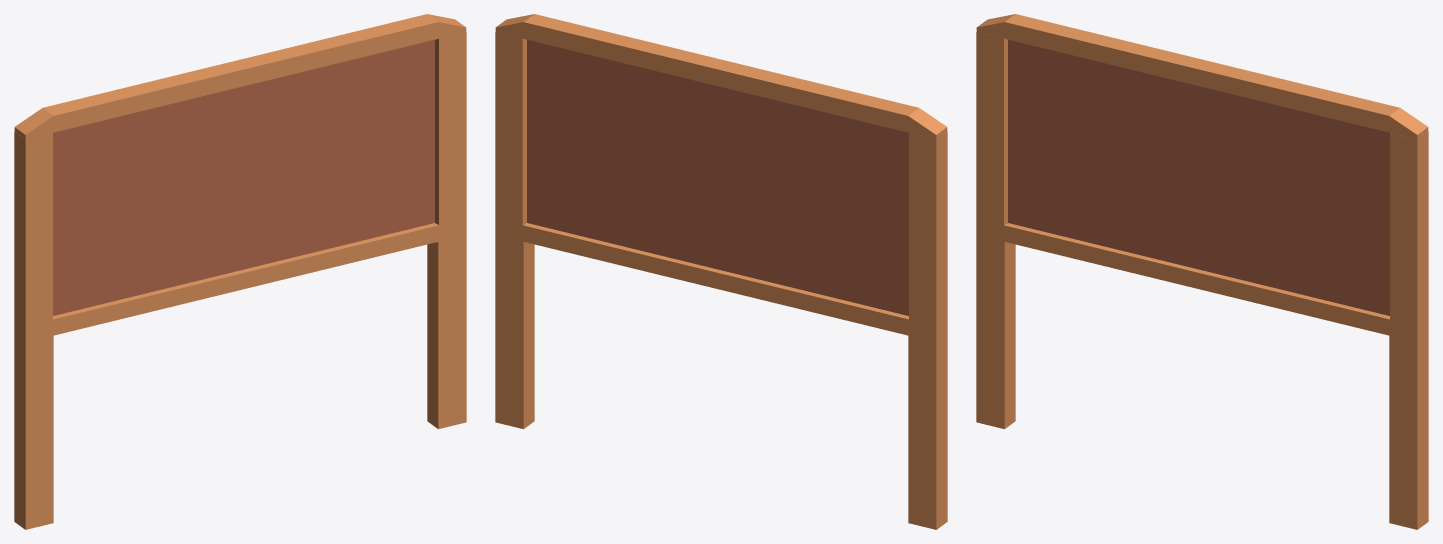
Rendered from Sign.fbx.
3 views of the same model, side by side, from view 1: azimuth 30°, elevation 25°; view 2: azimuth 150°, elevation 25°; view 3: azimuth 330°, elevation 25° (orthographic).
Visible parts, largest first — view 1: Cube; view 2: Cube; view 3: Cube.
Part boxes in pixels (x1,y1,x2,y2): Cube: (14, 14, 466, 529); Cube: (495, 14, 947, 529); Cube: (976, 14, 1428, 529).
Bounding box in the file's own units: 12247 × 10804 × 536.
